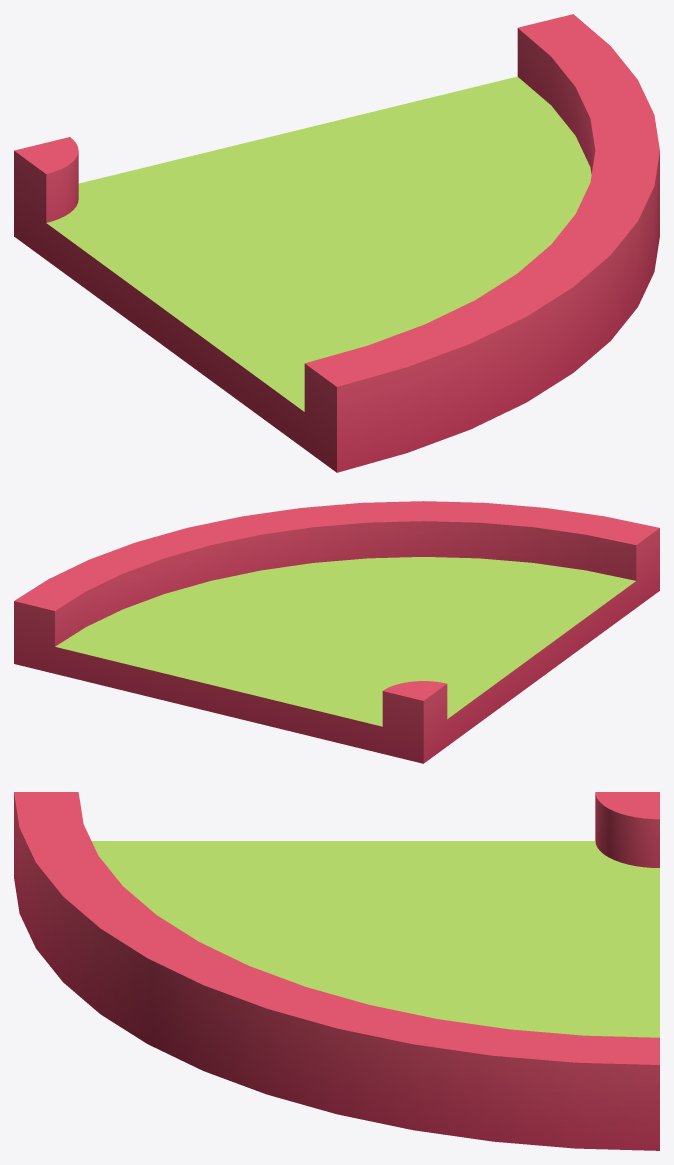
Rendered from round-corner-a.fbx.
3 renders of one model, top to bottom at view 1: azimuth 30°, elevation 25°; view 2: azimuth 150°, elevation 25°; view 3: azimuth 270°, elevation 25°, orthographic. The views are drawn at different scales.
Parts seen in each view (by area): view 1: round_corner_a; view 2: round_corner_a; view 3: round_corner_a.
Part boxes in pixels (left/top/right/bottom): round_corner_a: left=14, top=14, right=659, bottom=472; round_corner_a: left=14, top=501, right=659, bottom=763; round_corner_a: left=14, top=792, right=659, bottom=1150.
Bounding box in the file's own units: 99.99 × 14.67 × 99.99.
